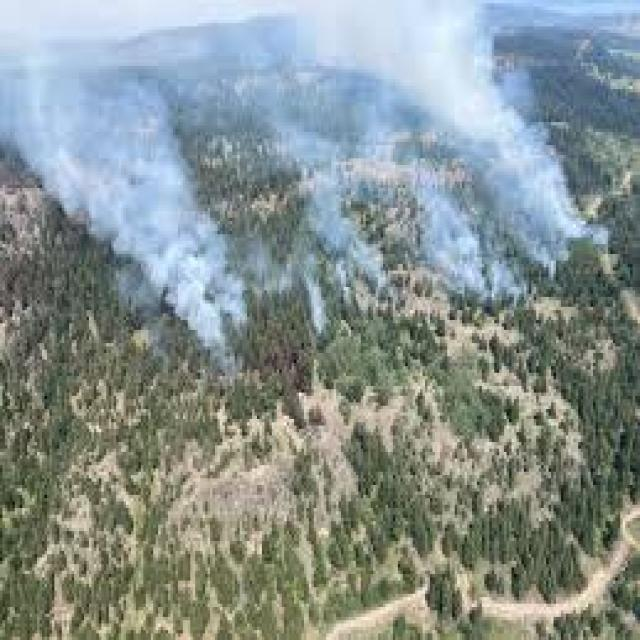Smoke: (0, 0, 621, 343), (0, 0, 397, 358), (0, 0, 262, 386)
